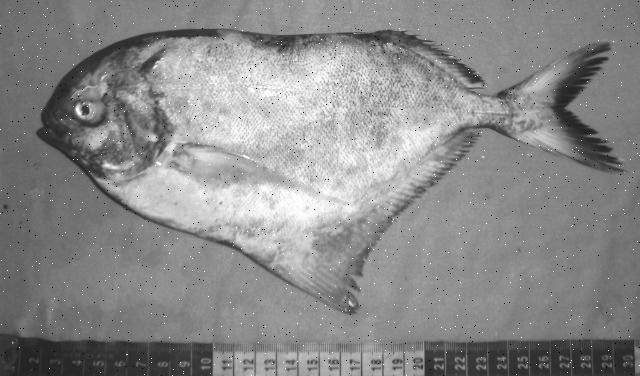Mulut: (14, 96, 62, 152)
Sirip Dada: (154, 130, 348, 212), (374, 17, 496, 103)
Sirip Ekor: (500, 30, 634, 186)
Sirip Punggung: (252, 124, 490, 321)
